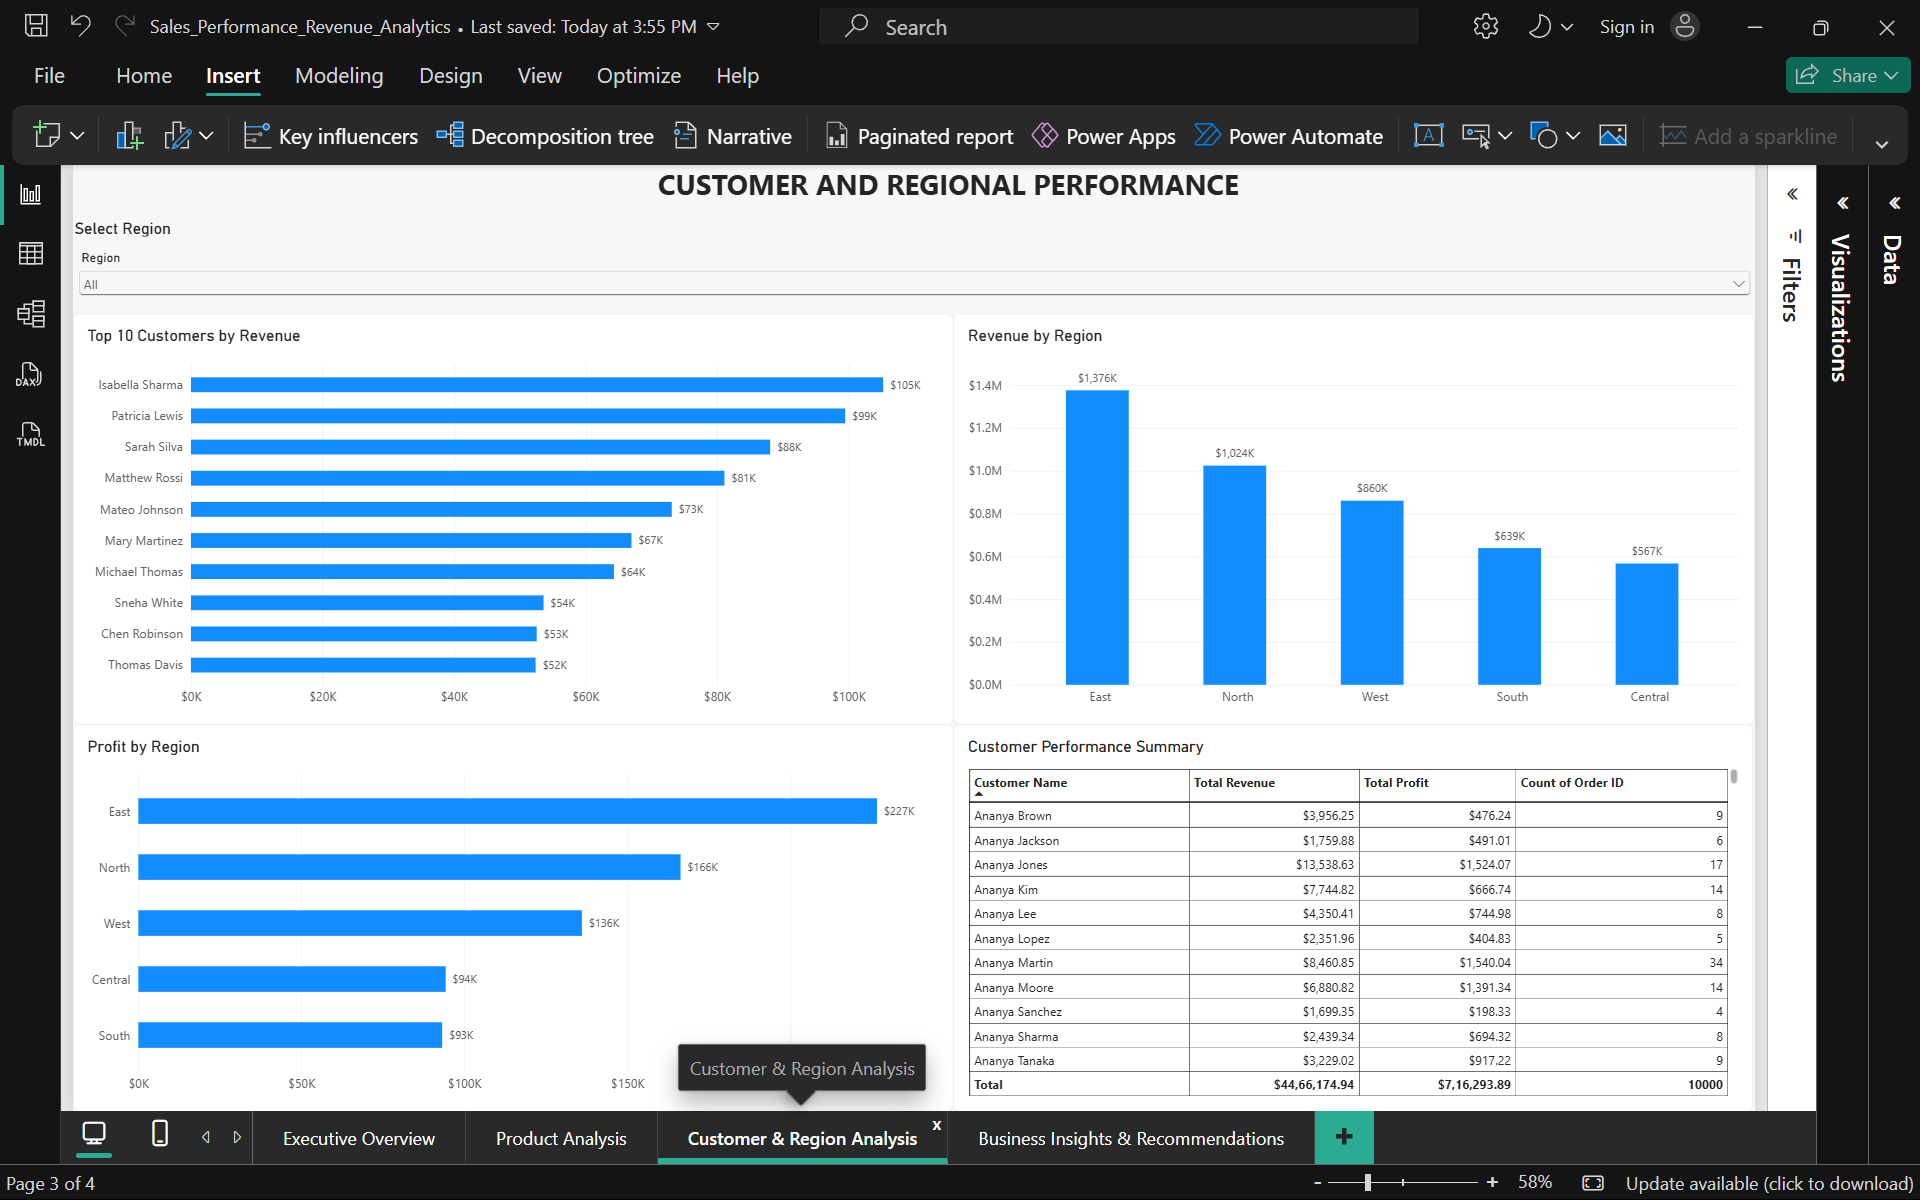

What the dashboard file says about the page in this screenshot:
{"tool":"powerbi","page":{"name":"Customer & Region Analysis","canvas":[1920,1080],"ordinal":2},"visuals":[{"type":"textbox","box":[667.9,0,674.7,61.7],"z":0},{"type":"clusteredBarChart","title":"Top 10 Customers by Revenue","fields":{"Category":["sales_data.Customer Name"],"Y":["sales_data.Total Revenue"]},"box":[0,169.5,1005.2,469.2],"z":1000},{"type":"clusteredColumnChart","title":"Revenue by Region","fields":{"Category":["sales_data.Region"],"Y":["sales_data.Total Revenue"]},"box":[1005.2,169.5,914.5,469.2],"z":2000},{"type":"clusteredBarChart","title":"Profit by Region","fields":{"Category":["sales_data.Region"],"Y":["sales_data.Total Profit"]},"box":[0,638.8,1005.2,441.8],"z":3000},{"type":"tableEx","title":"Customer Performance Summary","fields":{"Values":["sales_data.Customer Name","sales_data.Total Revenue","sales_data.Total Profit","sales_data.Order ID"]},"box":[1005.2,638.8,912.8,441.8],"z":4000},{"type":"slicer","title":"Select Region","fields":{"Values":["sales_data.Region"]},"box":[1.7,61.7,1918,90.8],"z":5000}]}

Visuals, with their boxes on the page's 1920x1080 design canvas (x1, y1, x2, y2). These are canvas units, not pixel positions in the 1920x1200 screenshot, which may show the page scaled, cropped or inside an application window:
textbox: bbox=[668, 0, 1343, 62]
"Top 10 Customers by Revenue" clusteredBarChart: bbox=[0, 170, 1005, 639]
"Revenue by Region" clusteredColumnChart: bbox=[1005, 170, 1920, 639]
"Profit by Region" clusteredBarChart: bbox=[0, 639, 1005, 1081]
"Customer Performance Summary" tableEx: bbox=[1005, 639, 1918, 1081]
"Select Region" slicer: bbox=[2, 62, 1920, 152]
